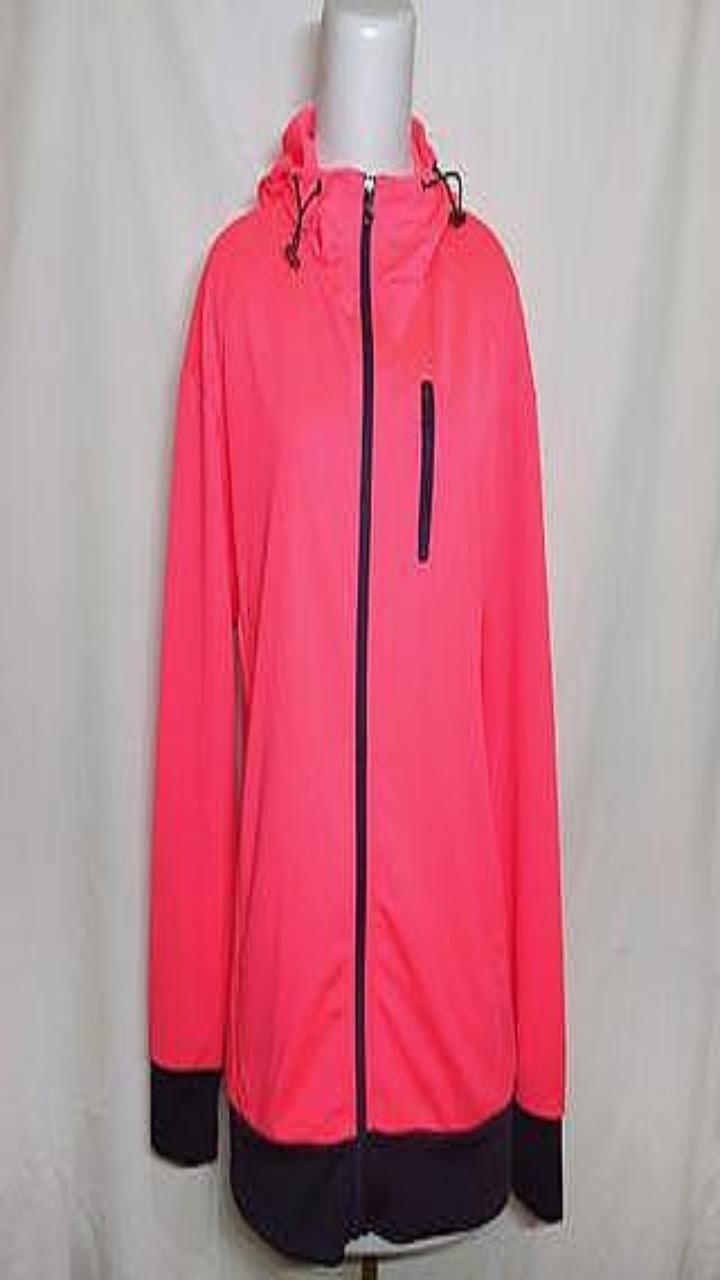Sports_Jacket: (148, 100, 564, 1264)
